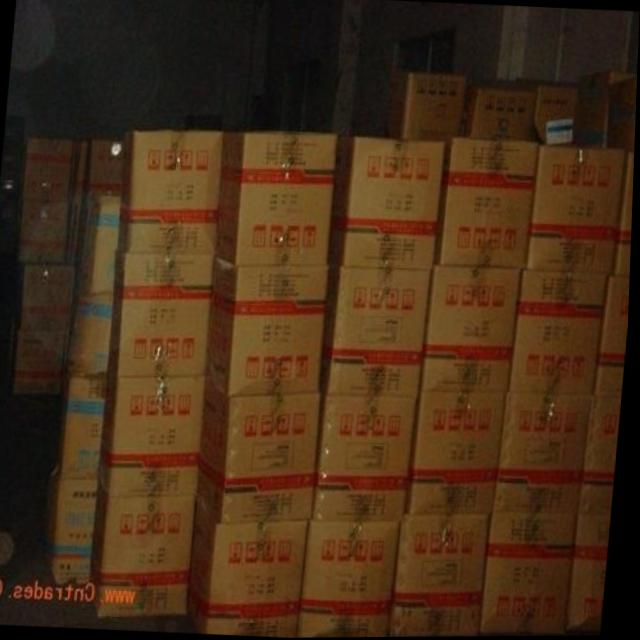box: (201, 374, 321, 524), (189, 497, 312, 637), (208, 255, 330, 396), (217, 133, 338, 268), (91, 468, 200, 616), (329, 137, 445, 270), (321, 267, 435, 395), (102, 367, 209, 497), (435, 139, 541, 270), (109, 249, 218, 375), (316, 392, 422, 521), (119, 130, 226, 255), (527, 147, 628, 277), (511, 270, 613, 398), (424, 269, 526, 393), (394, 514, 496, 638), (409, 392, 510, 517), (483, 512, 582, 637), (496, 391, 596, 513), (303, 520, 405, 638), (15, 139, 80, 266), (44, 471, 100, 591), (385, 69, 465, 144), (569, 513, 615, 637), (56, 371, 108, 478), (583, 396, 625, 515), (3, 323, 70, 395), (9, 262, 78, 331), (77, 192, 122, 295), (68, 280, 117, 374), (575, 73, 636, 148), (463, 78, 534, 141), (596, 277, 632, 398), (519, 80, 578, 145), (87, 138, 128, 195), (609, 75, 638, 150)
